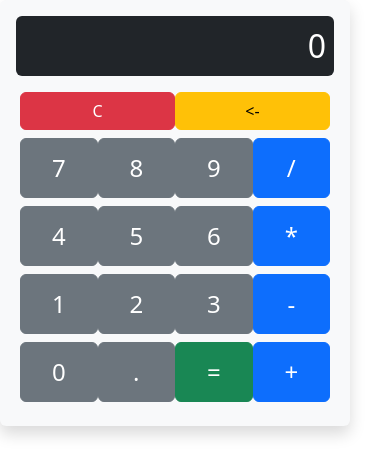
Test: Calculator › deletes last character on backspace button click
Click the button "1" at (59,304), box [20,274,98,334]
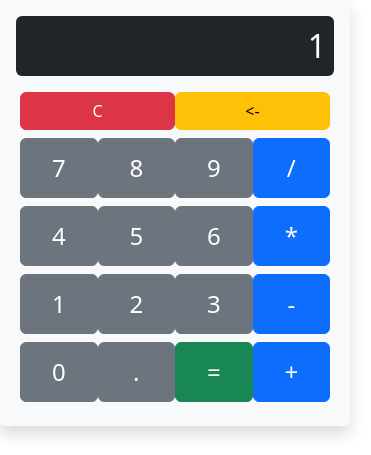
Click the button "2" at (136,304), box [98,274,175,334]
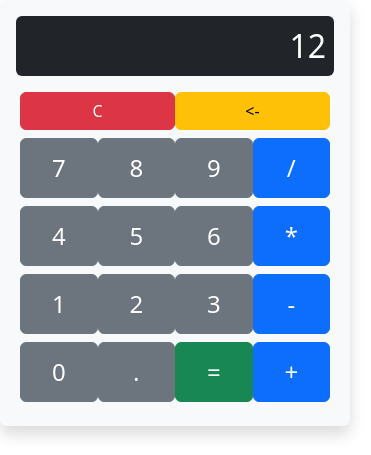
Click the button "3" at (214,304), box [175,274,252,334]
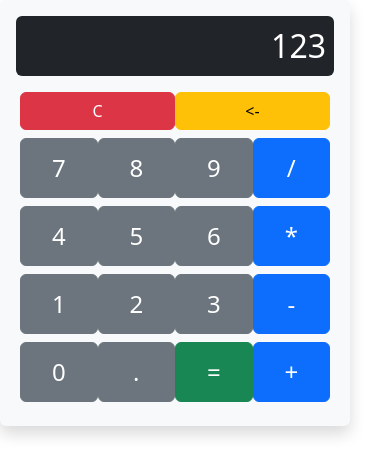
Click the button "<-" at (252,111), box [175,92,330,130]
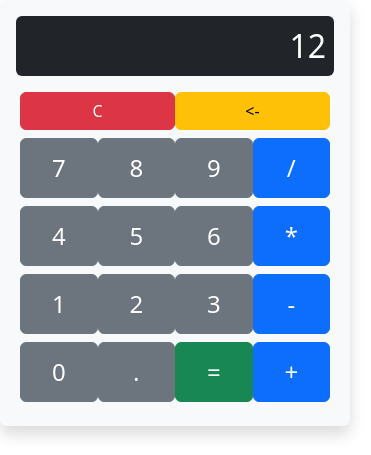
Expected: the text with test id "calculator-display" reads "12", [289,24,326,67]
